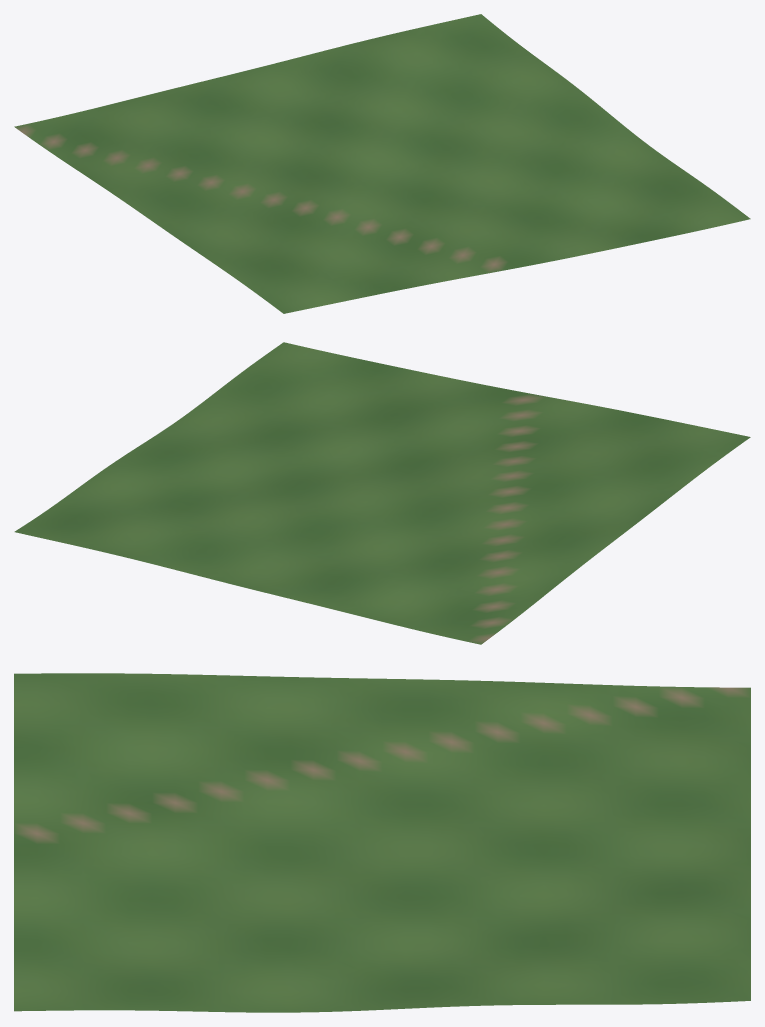
File: chunk_9_7.glb
3 views of the same model, one above another, from view 1: azimuth 30°, elevation 25°; view 2: azimuth 150°, elevation 25°; view 3: azimuth 270°, elevation 25° (orthographic). The views are drawn at different scales.
Bounding box in the file's own units: 512 × 21.39 × 512.
